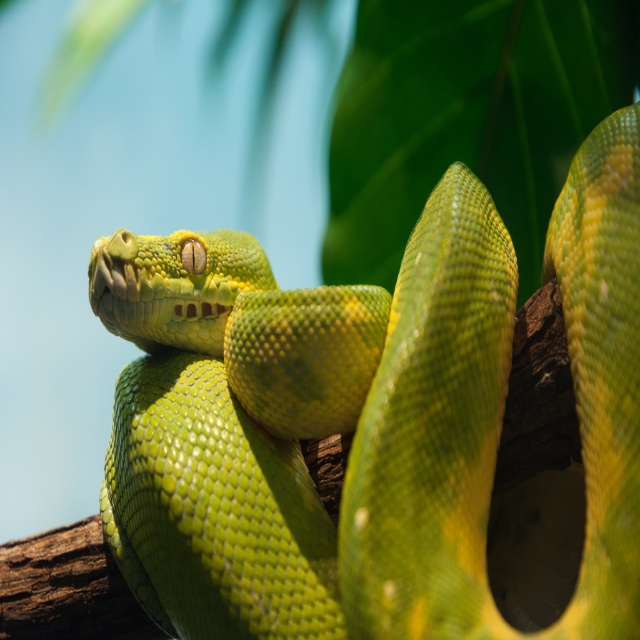Snake: (87, 100, 640, 640)
